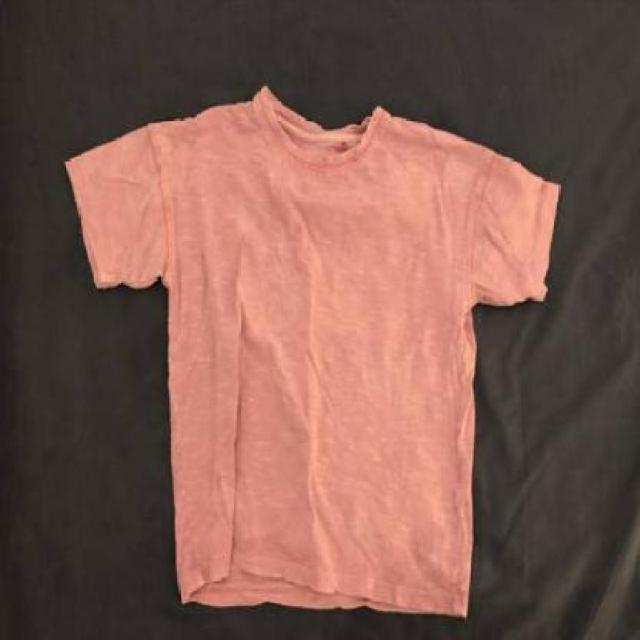shirt: (59, 88, 586, 632)
